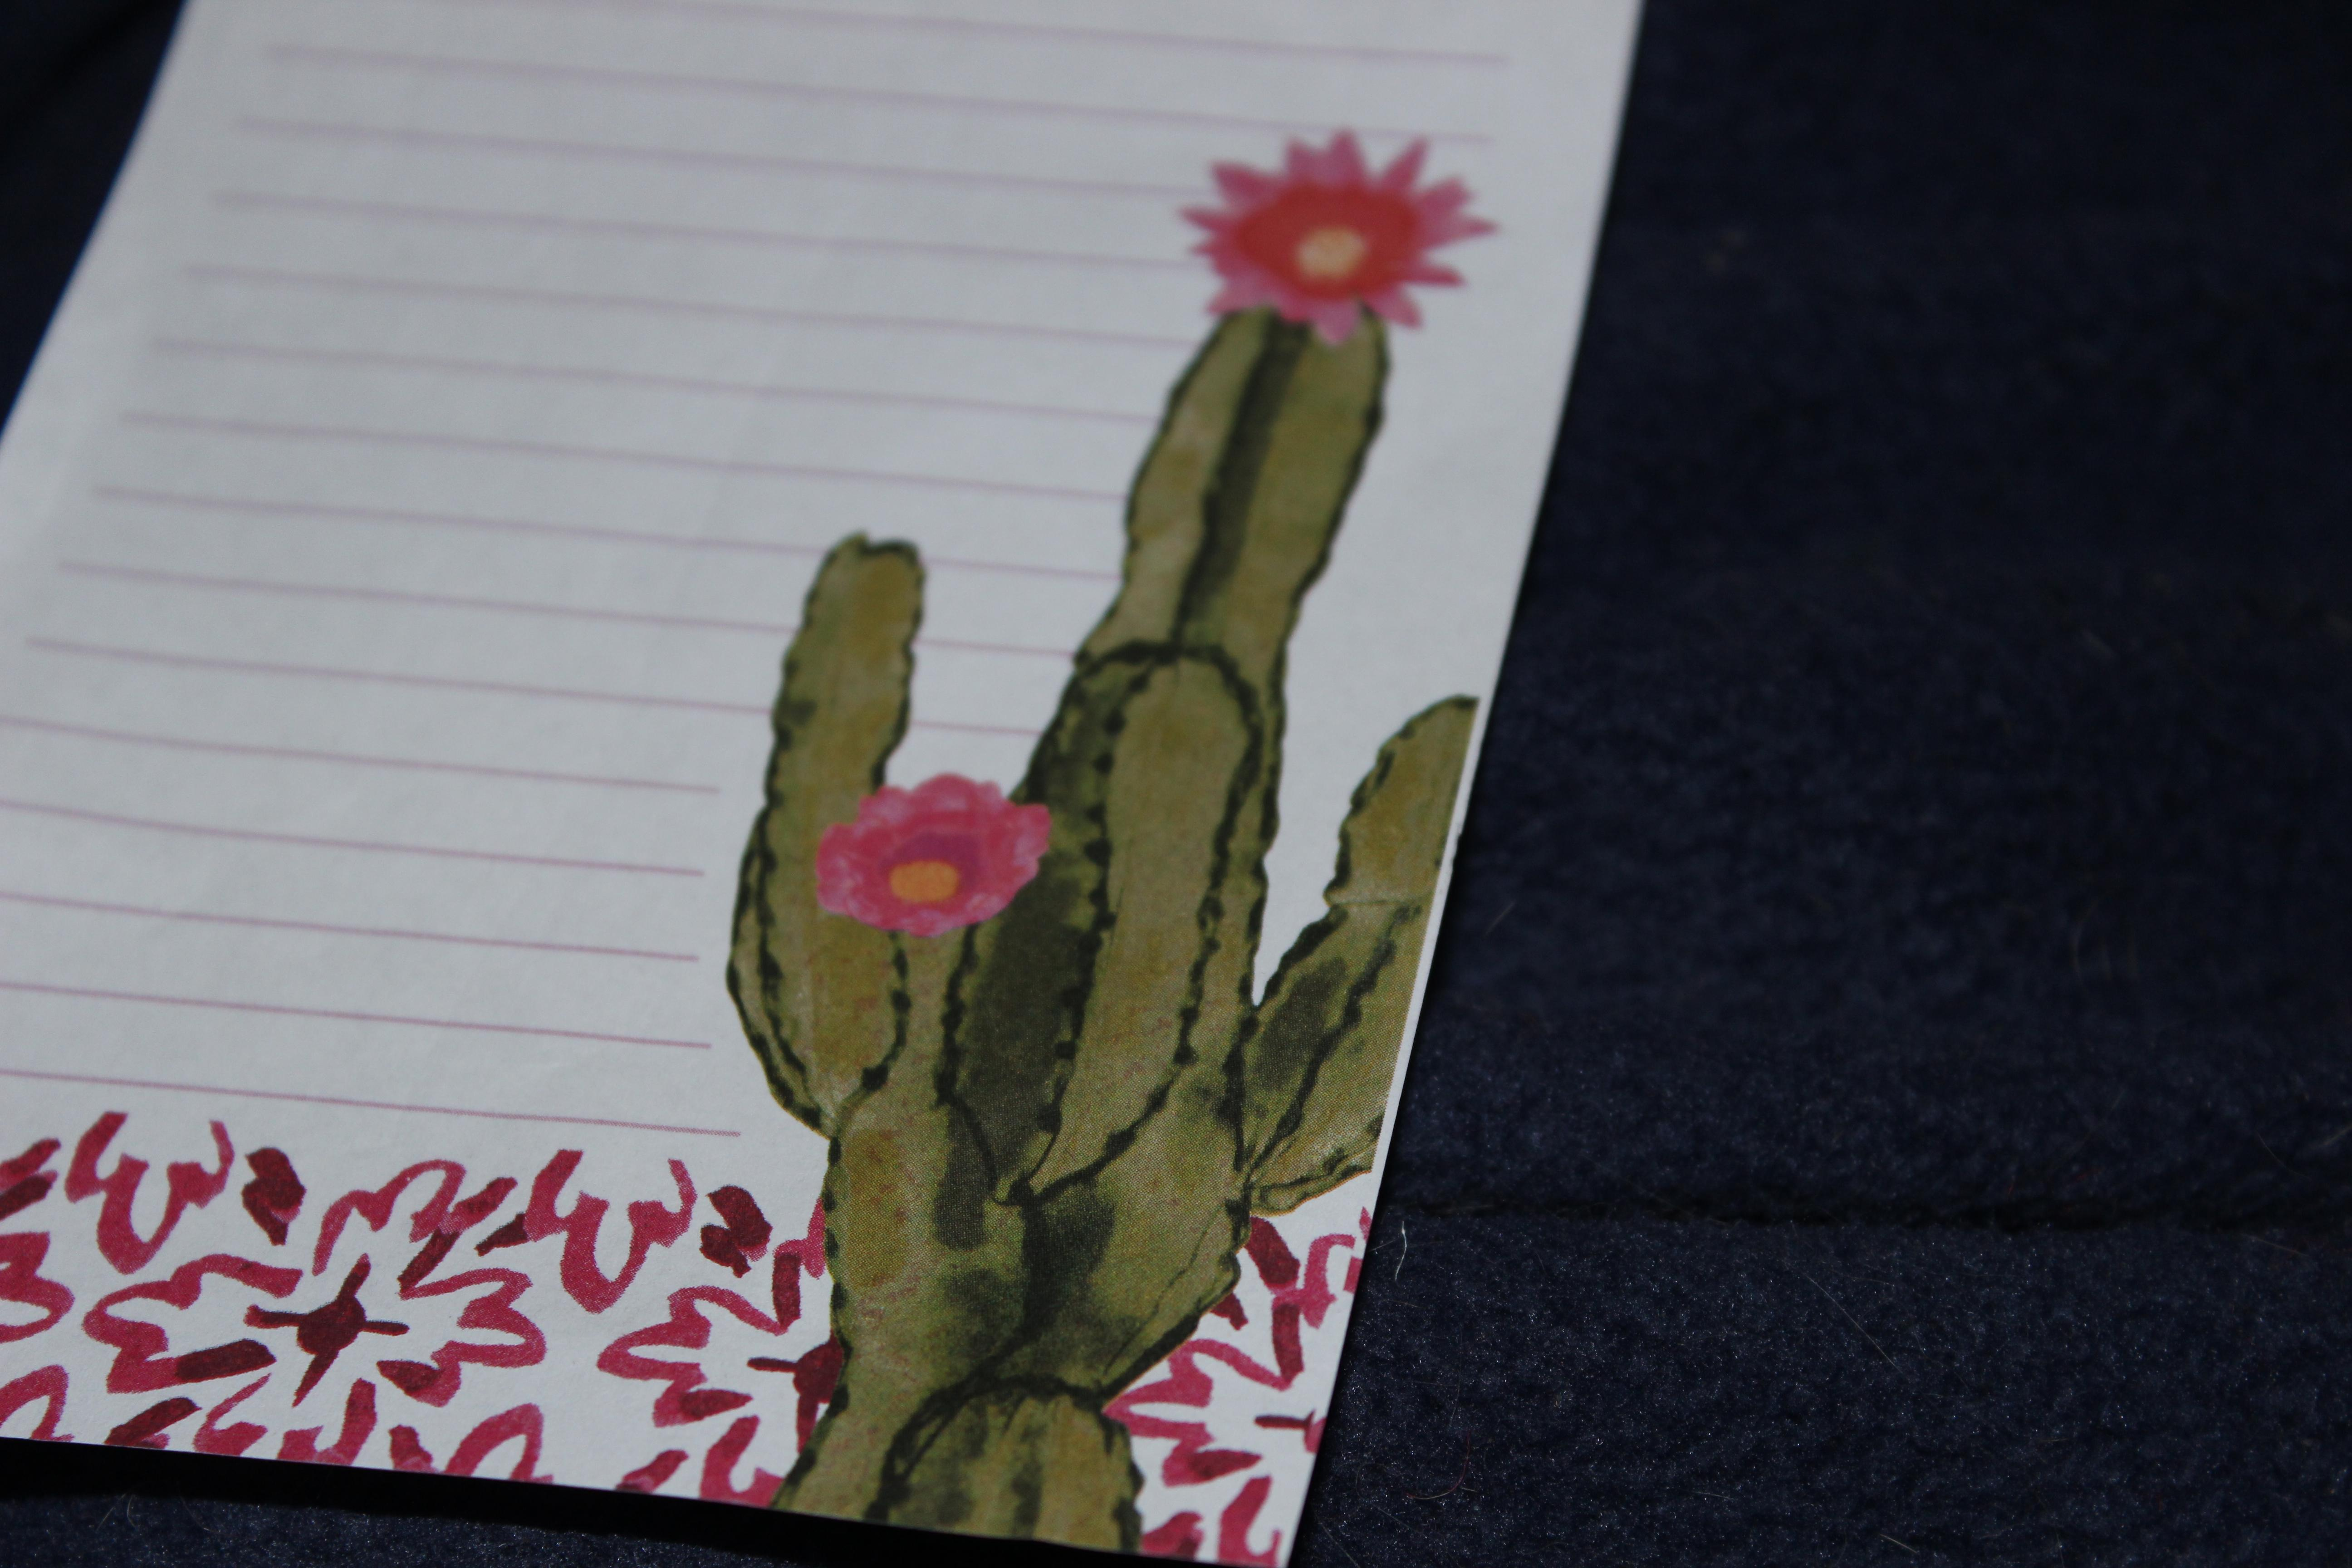cactusPaper: (0, 3, 1671, 1564)
